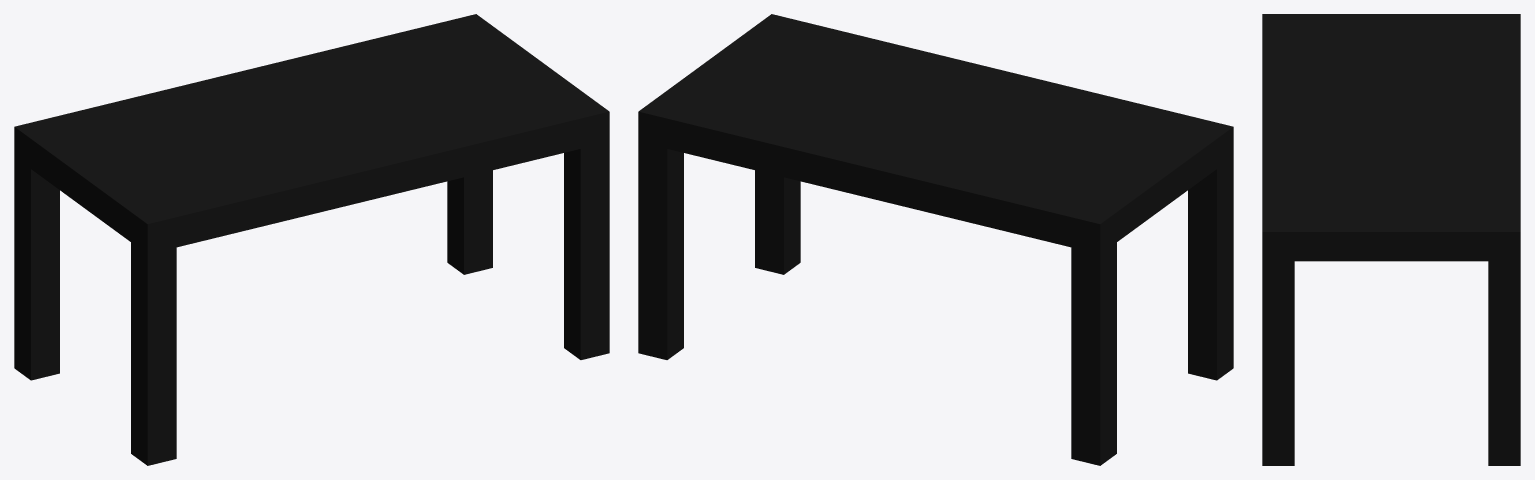
The model's file is 42_tabletest2.glb.
3 renders of one model, left to right at view 1: azimuth 30°, elevation 25°; view 2: azimuth 150°, elevation 25°; view 3: azimuth 270°, elevation 25°, orthographic. The views are drawn at different scales.
Parts seen in each view (by area): view 1: items/42_tabletest2; view 2: items/42_tabletest2; view 3: items/42_tabletest2.
Boxes of the visible parts, box(x1,y1,x2,y2) form: items/42_tabletest2: box(14, 14, 609, 465); items/42_tabletest2: box(638, 14, 1233, 465); items/42_tabletest2: box(1262, 14, 1520, 465).
Bounding box in the file's own units: 2 × 1 × 1.
Materials: 1 (1 with a texture image).
